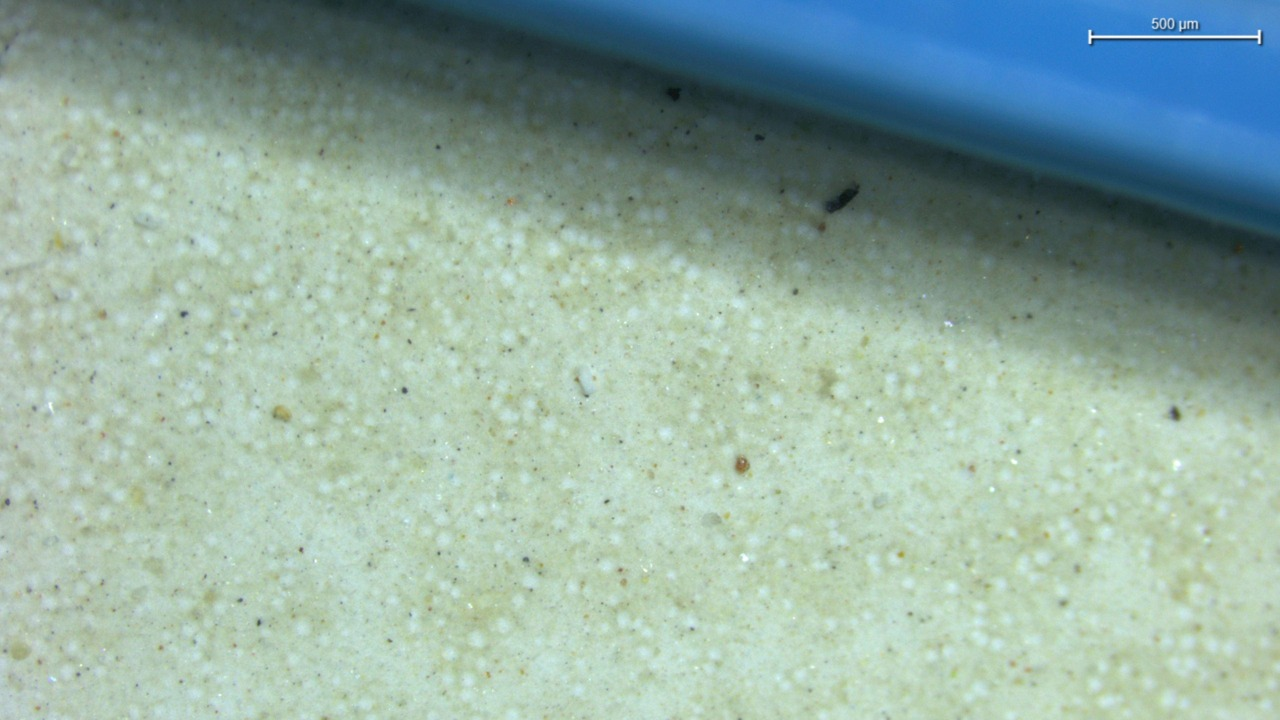microplastic_fragment: (576, 367, 597, 397)
